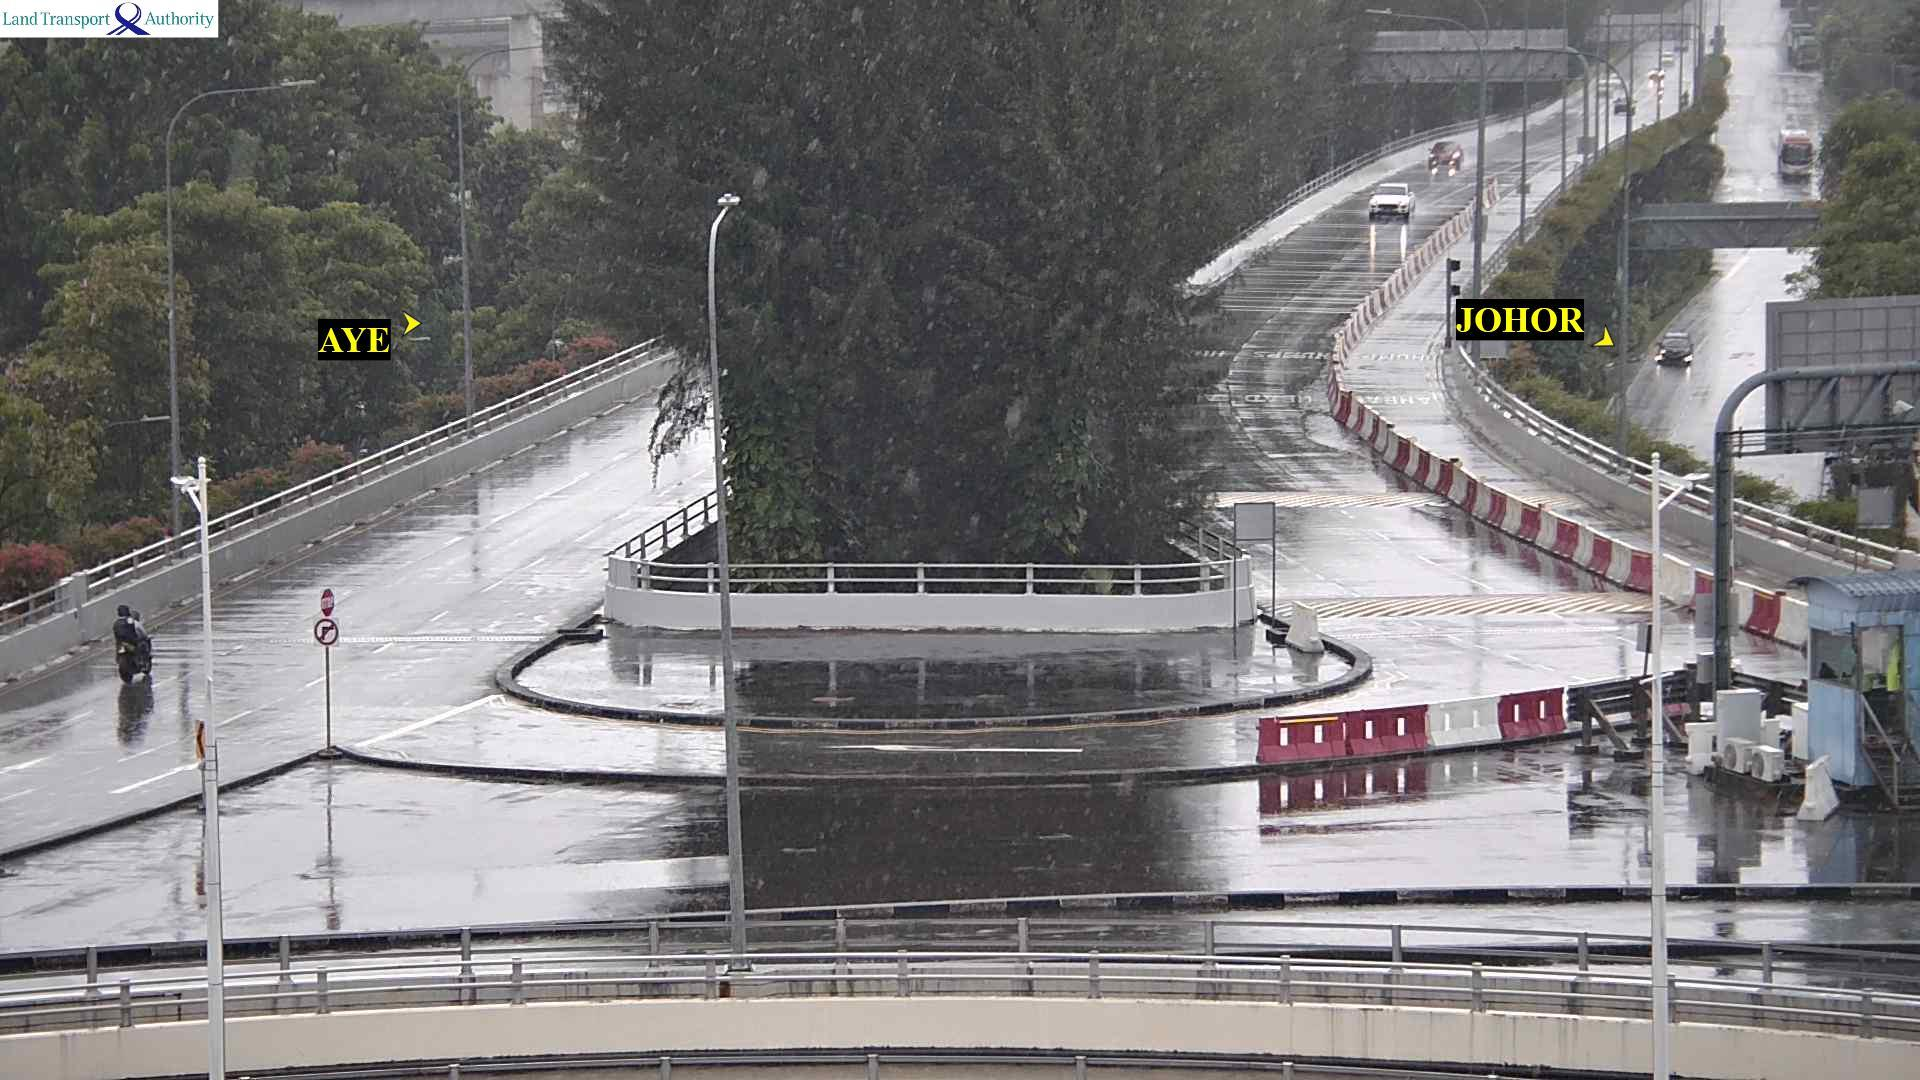vehicle-secondlink-johor: (1370, 183, 1411, 224), (1427, 135, 1465, 170)
vehicle-secondlink-singapore: (116, 605, 156, 688)
